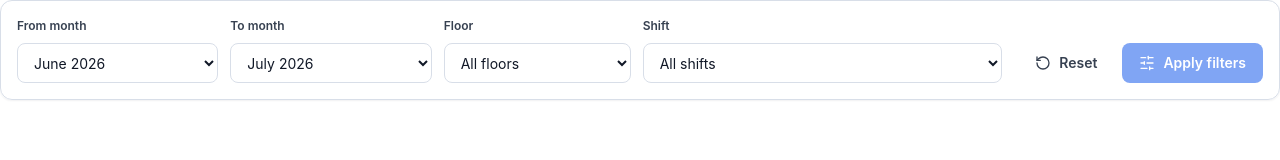
Scenario: ReportFilters › prevents an invalid month range from being applied
Select "July 2026" in the dropdown labelled "From month": (118, 63) [17,43,218,83]
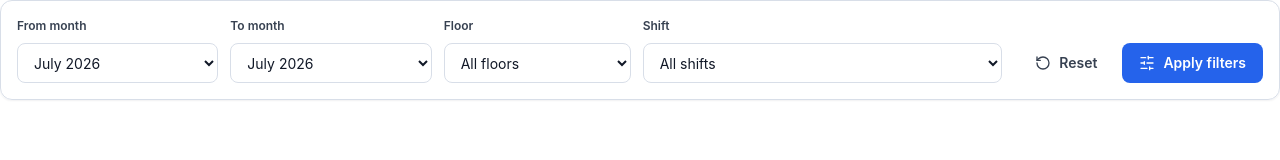
Select "June 2026" in the dropdown labelled "To month": (331, 63) [230,43,432,83]
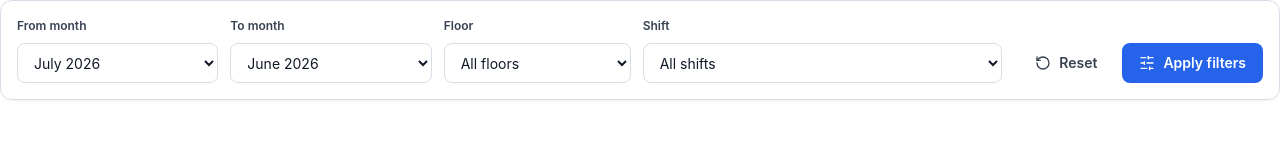
Submit the form
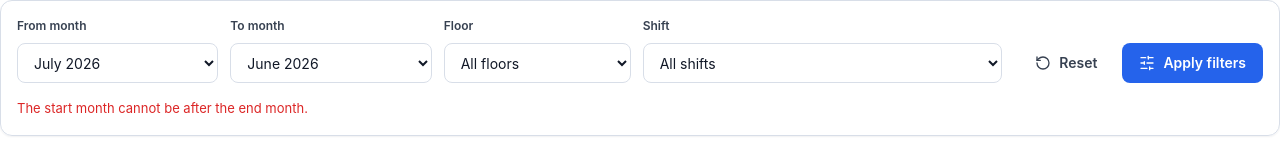
Expected: the form shows "The start month cannot be after the end month.", [17,100,308,116]
